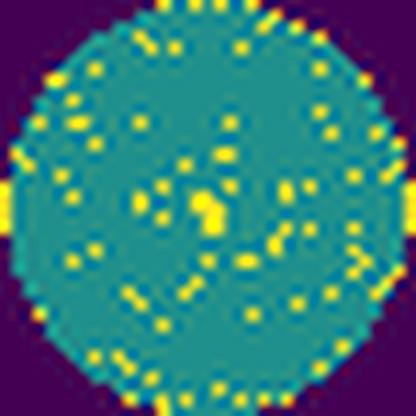Center: (186, 186, 228, 238)
